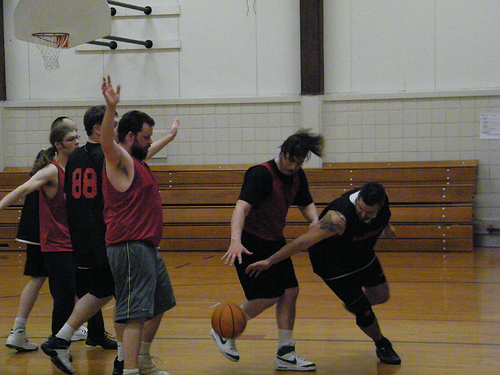basketball: (210, 302, 247, 340)
